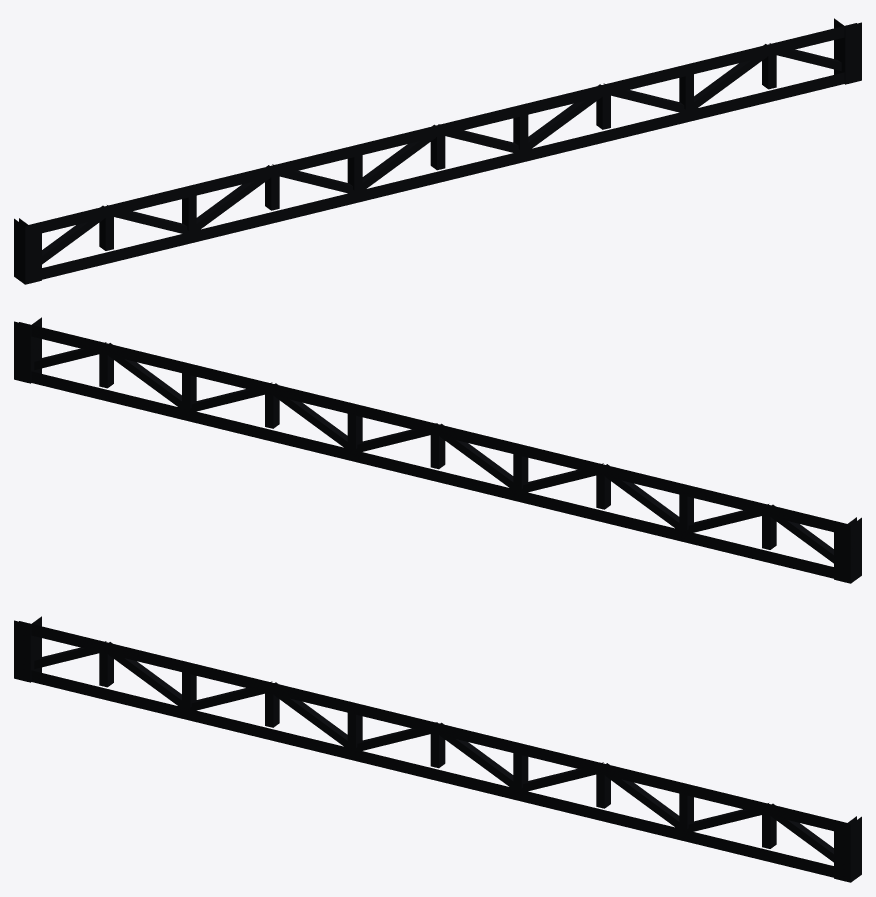
The model's file is tt_struct_aquatic_truss_wtrim.glb.
3 views of the same model, one above another, from view 1: azimuth 30°, elevation 25°; view 2: azimuth 150°, elevation 25°; view 3: azimuth 330°, elevation 25° (orthographic).
Visible parts, largest first — view 1: Truss_Steel; view 2: Truss_Steel; view 3: Truss_Steel.
Boxes of the visible parts, x1=… form: Truss_Steel: x1=14, y1=18, x2=861, y2=284; Truss_Steel: x1=14, y1=317, x2=861, y2=583; Truss_Steel: x1=14, y1=616, x2=861, y2=882.
Size of the model in its own units: 30.15 by 2.02 by 0.7.
Materials: 2 (1 with a texture image).
